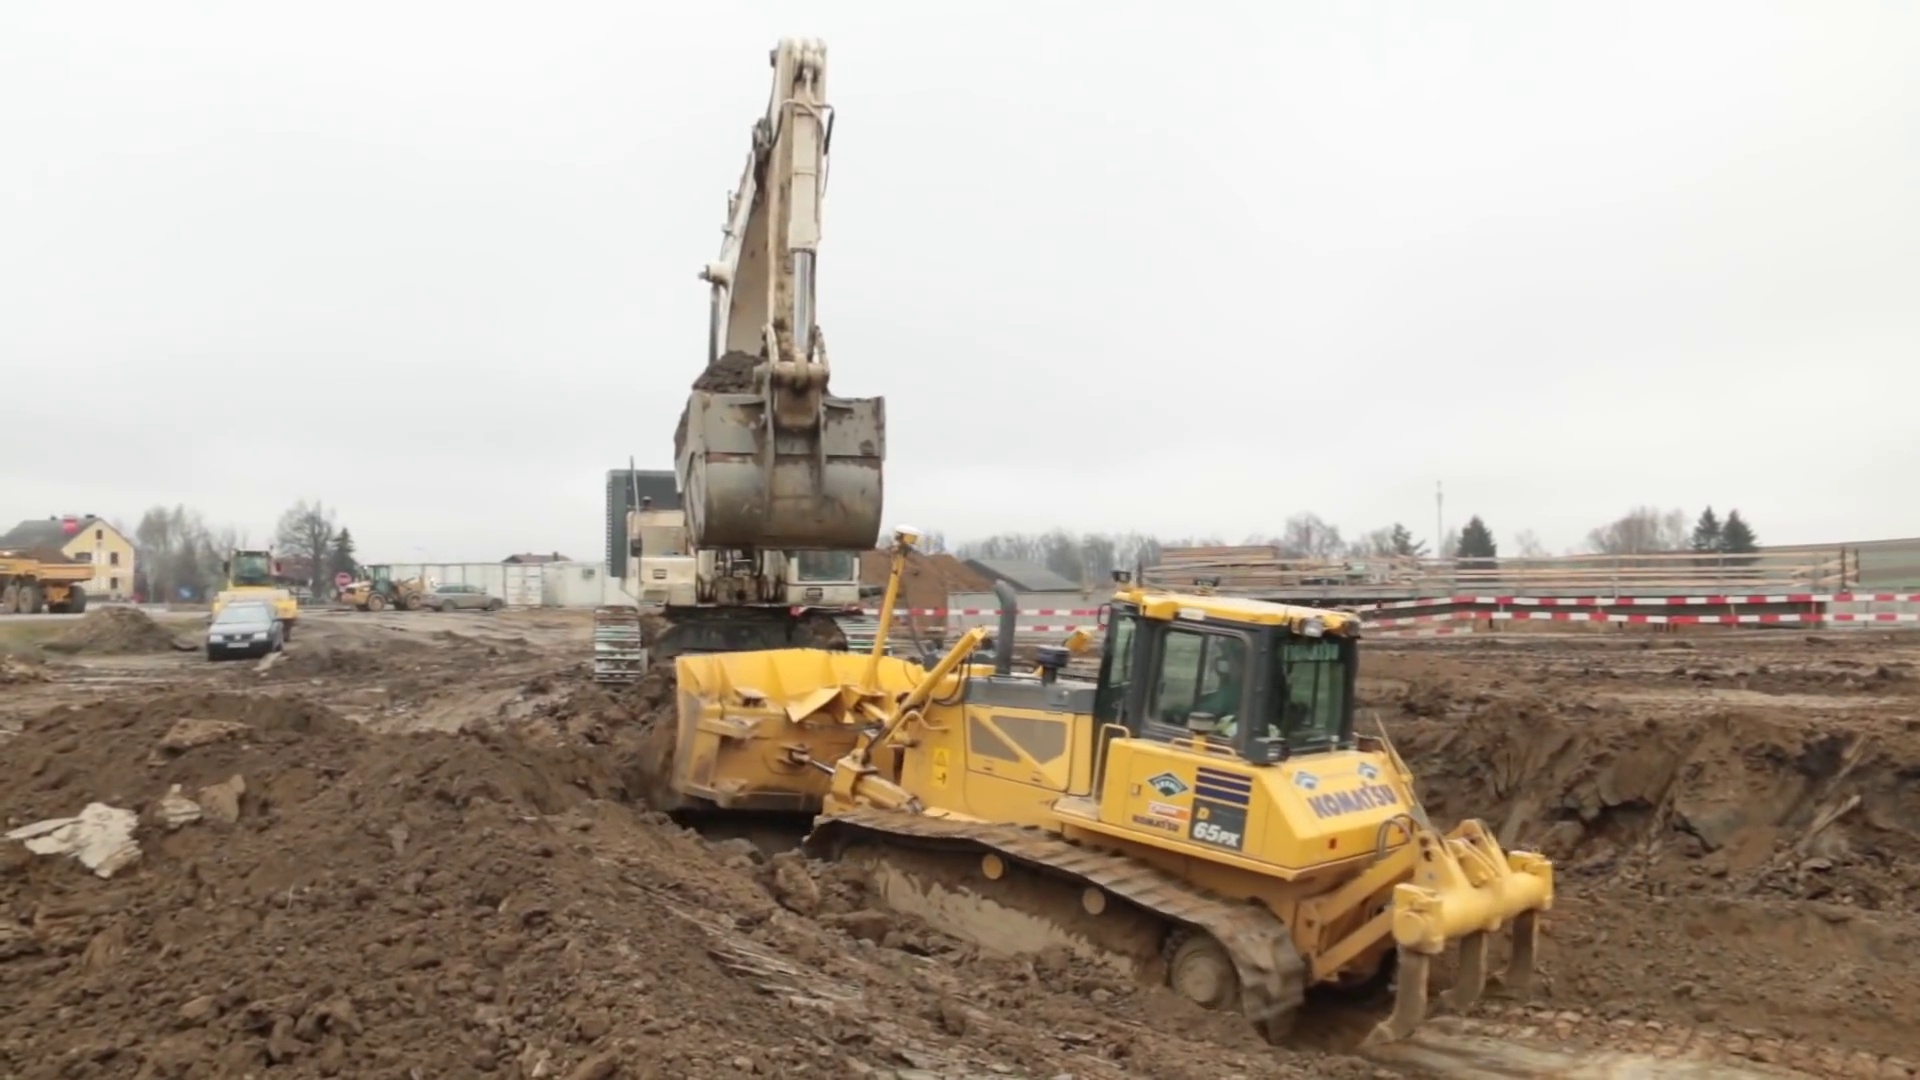bulldozer: (674, 587, 1552, 1027)
car: (214, 604, 284, 653), (423, 585, 506, 605)
dumper: (3, 545, 87, 608)
excavator: (596, 32, 893, 699)
